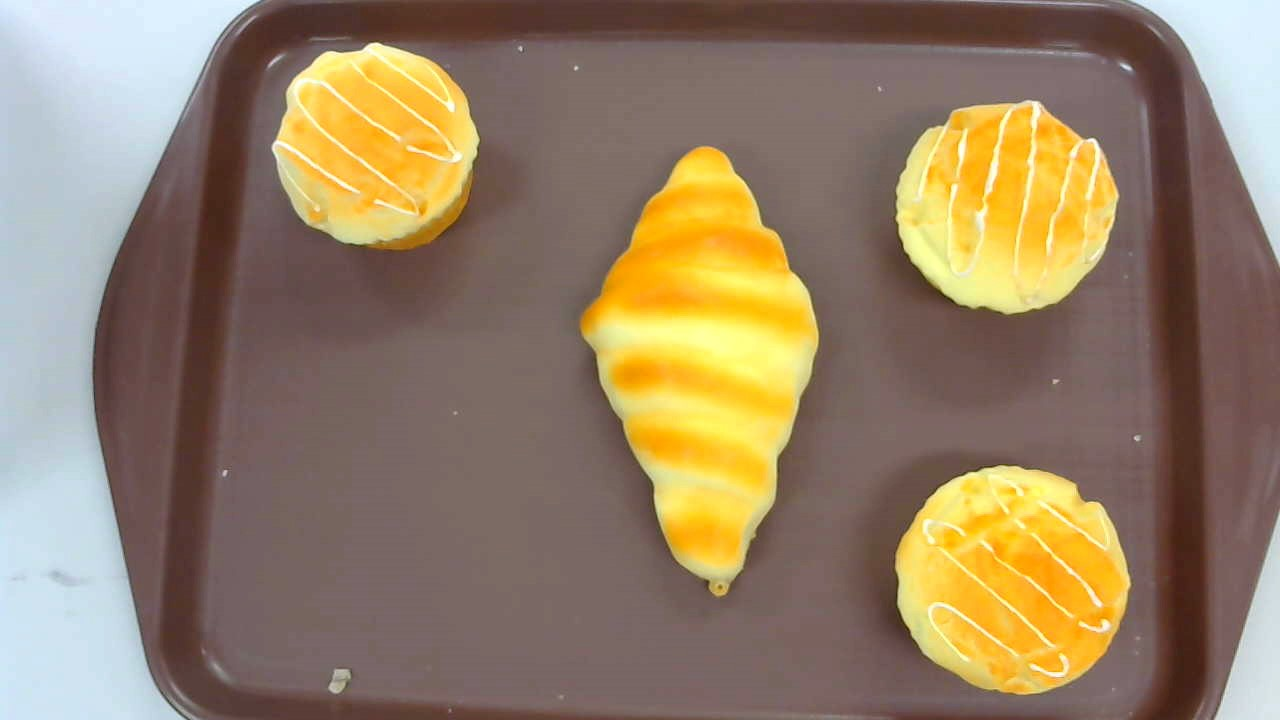croissant: (579, 143, 819, 598)
cupcake: (893, 464, 1131, 696), (894, 99, 1119, 316), (270, 42, 480, 251)
